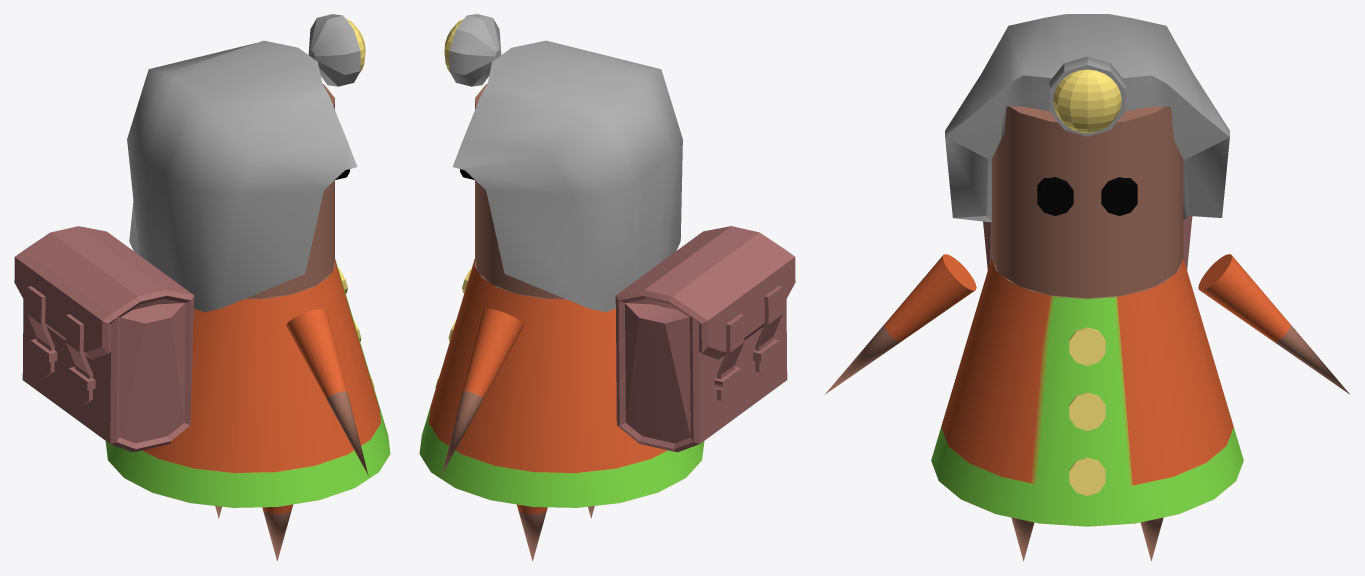
Rendered from Player_test.fbx.
3 renders of one model, left to right at view 1: azimuth 30°, elevation 25°; view 2: azimuth 150°, elevation 25°; view 3: azimuth 270°, elevation 25°, orthographic. The views are drawn at different scales.
Visible parts, largest first — view 1: hair, chest, backpack, R_arm, pCylinder12, head, R_leg; view 2: hair, chest, backpack, R_arm1, pCylinder12, head, L_leg; view 3: chest, head, hair, R_arm, R_arm1, pSphere8, pCylinder12, R_eye, L_eye, L_eye2, L_eye1, L_eye3 (+1 smaller).
Part boxes in pixels (left/top/right/bottom): hair: left=127, top=40, right=357, bottom=312; chest: left=105, top=258, right=390, bottom=507; backpack: left=14, top=226, right=194, bottom=452; R_arm: left=286, top=308, right=368, bottom=475; pCylinder12: left=308, top=14, right=360, bottom=86; head: left=246, top=84, right=334, bottom=298; R_leg: left=262, top=504, right=293, bottom=561; hair: left=452, top=40, right=682, bottom=311; chest: left=419, top=258, right=704, bottom=507; backpack: left=615, top=226, right=795, bottom=452; R_arm1: left=441, top=308, right=523, bottom=475; pCylinder12: left=449, top=14, right=501, bottom=86; head: left=475, top=84, right=563, bottom=298; L_leg: left=516, top=504, right=547, bottom=561; chest: left=931, top=258, right=1243, bottom=526; head: left=991, top=106, right=1183, bottom=298; hair: left=945, top=14, right=1229, bottom=222; R_arm: left=825, top=254, right=976, bottom=394; R_arm1: left=1198, top=254, right=1349, bottom=394; pSphere8: left=1053, top=69, right=1121, bottom=132; pCylinder12: left=1049, top=56, right=1125, bottom=136; R_eye: left=1037, top=177, right=1073, bottom=215; L_eye: left=1101, top=177, right=1137, bottom=215; L_eye2: left=1069, top=392, right=1105, bottom=430; L_eye1: left=1069, top=327, right=1105, bottom=365; L_eye3: left=1069, top=457, right=1105, bottom=495.
Size of the model in its own units: 6.29 by 9.46 by 8.24.
Materials: 6 (2 with a texture image).
